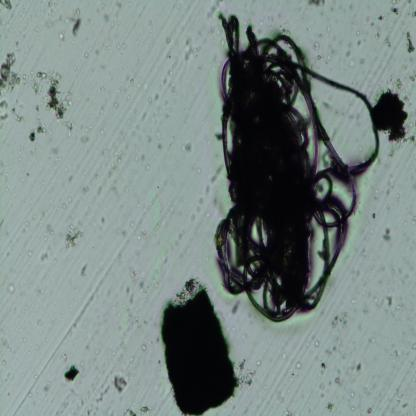Background material: (158, 284, 242, 416), (371, 85, 416, 147), (35, 69, 72, 119), (94, 147, 125, 196), (0, 49, 20, 96), (240, 361, 260, 389), (124, 309, 149, 331), (182, 36, 200, 63), (152, 195, 168, 225), (211, 191, 229, 217), (67, 223, 83, 251), (11, 98, 27, 124), (402, 28, 416, 56), (36, 116, 52, 140), (330, 310, 349, 330), (168, 232, 187, 250), (97, 386, 116, 404), (144, 273, 159, 294), (113, 375, 129, 394), (82, 294, 98, 313), (391, 300, 406, 320), (211, 164, 225, 185), (0, 96, 9, 128), (117, 240, 131, 260), (127, 109, 141, 128), (64, 366, 82, 380), (372, 22, 384, 41), (118, 404, 137, 416), (326, 344, 341, 358), (231, 295, 242, 314), (176, 142, 193, 154), (124, 284, 134, 304), (85, 404, 101, 416), (23, 72, 35, 88), (351, 361, 363, 377), (386, 177, 395, 198), (62, 13, 76, 26), (382, 224, 392, 242), (0, 0, 15, 12), (398, 270, 410, 285), (138, 404, 154, 415), (151, 104, 162, 120), (140, 108, 150, 125), (73, 17, 81, 38), (80, 186, 94, 198), (163, 99, 171, 119), (65, 121, 75, 137), (80, 260, 90, 276), (372, 295, 385, 307), (27, 128, 38, 142), (384, 293, 394, 308), (278, 24, 290, 36), (116, 227, 129, 238), (41, 251, 51, 265), (168, 81, 178, 95), (118, 130, 128, 144), (283, 408, 300, 416), (78, 133, 89, 145), (124, 75, 135, 87), (99, 0, 112, 10), (26, 148, 35, 162), (46, 221, 54, 236), (8, 282, 18, 294), (373, 187, 381, 202), (35, 284, 44, 297), (42, 378, 50, 392), (394, 76, 402, 90), (50, 145, 60, 156), (99, 41, 111, 50), (377, 12, 389, 21), (313, 40, 322, 52), (307, 0, 328, 5), (361, 307, 371, 317), (406, 8, 416, 18), (325, 402, 335, 412), (78, 396, 87, 407), (153, 92, 162, 103), (360, 246, 367, 260), (319, 360, 326, 374), (409, 70, 416, 84), (208, 25, 216, 37), (62, 352, 70, 364), (132, 125, 140, 137), (325, 20, 332, 33), (344, 1, 354, 10), (0, 19, 10, 28), (317, 381, 326, 391), (390, 7, 400, 16), (396, 391, 404, 402), (324, 98, 332, 109), (5, 341, 12, 353), (155, 129, 162, 141), (14, 40, 21, 52), (45, 19, 54, 28), (57, 33, 66, 42), (293, 360, 302, 369), (118, 84, 127, 93), (393, 349, 401, 359), (97, 214, 105, 224), (97, 85, 105, 95), (318, 392, 328, 400), (204, 184, 212, 194), (346, 113, 356, 121), (17, 144, 24, 155), (140, 278, 146, 290), (343, 49, 352, 57), (6, 371, 12, 383), (5, 172, 10, 186), (112, 100, 119, 110), (84, 125, 94, 132), (141, 230, 148, 240), (100, 106, 106, 117), (370, 212, 378, 220), (258, 19, 266, 27), (167, 68, 175, 76), (358, 56, 366, 64), (127, 221, 136, 228), (129, 270, 136, 279), (140, 156, 146, 166), (134, 154, 140, 164), (385, 37, 391, 47), (336, 377, 342, 387), (365, 338, 375, 344), (134, 233, 141, 241), (121, 41, 128, 49), (348, 60, 355, 68), (14, 155, 22, 162), (157, 142, 164, 150), (140, 82, 145, 93), (147, 96, 153, 105), (38, 220, 44, 229), (115, 1, 121, 10), (380, 263, 386, 272), (390, 269, 396, 278), (162, 75, 168, 84), (68, 173, 74, 182), (199, 194, 204, 204), (6, 136, 11, 146), (74, 8, 81, 15), (103, 15, 110, 22), (356, 146, 363, 153), (129, 356, 135, 364), (190, 213, 196, 221), (368, 228, 374, 236), (256, 359, 262, 367), (316, 53, 322, 61), (166, 142, 172, 150), (280, 350, 286, 358), (165, 38, 173, 44), (390, 0, 398, 6), (196, 166, 201, 175), (35, 104, 40, 113), (314, 337, 318, 348), (46, 1, 52, 8), (84, 52, 90, 59), (394, 192, 401, 198), (42, 210, 48, 217), (12, 350, 17, 358), (110, 303, 115, 311), (351, 392, 356, 400), (61, 201, 66, 209), (411, 215, 416, 223), (34, 26, 40, 32), (22, 338, 28, 344), (84, 97, 90, 103), (44, 233, 48, 242), (51, 10, 56, 17), (0, 221, 5, 228), (26, 349, 31, 356), (147, 164, 152, 171), (355, 271, 360, 278), (412, 342, 416, 350), (164, 256, 168, 264), (142, 344, 146, 352), (40, 178, 44, 186), (368, 406, 372, 414), (356, 28, 360, 36), (2, 360, 7, 366), (68, 197, 73, 203), (100, 64, 106, 69), (28, 251, 34, 256), (92, 357, 97, 363), (35, 343, 39, 350), (25, 220, 29, 227), (127, 2, 132, 7), (57, 158, 62, 163), (86, 115, 91, 120), (403, 403, 408, 408), (45, 337, 50, 342), (21, 372, 26, 377), (0, 348, 4, 354), (148, 137, 152, 143), (116, 44, 120, 50), (358, 39, 361, 47), (34, 374, 38, 380), (38, 320, 42, 326), (196, 208, 202, 212), (352, 299, 356, 305), (70, 38, 74, 44), (20, 8, 26, 12), (88, 18, 92, 24), (206, 213, 210, 219), (126, 186, 129, 193), (22, 228, 26, 233), (6, 251, 10, 256), (22, 178, 27, 182), (90, 46, 94, 51), (100, 129, 104, 134), (122, 65, 126, 70), (32, 214, 36, 219), (149, 22, 152, 28), (97, 8, 100, 14), (96, 50, 99, 56), (30, 198, 33, 204), (29, 392, 32, 398), (7, 392, 11, 396), (92, 33, 96, 37), (352, 407, 356, 411), (119, 326, 123, 330), (407, 0, 411, 4), (113, 351, 116, 356), (20, 327, 23, 332), (78, 125, 81, 130), (36, 389, 39, 394), (96, 349, 99, 354), (127, 96, 130, 100), (54, 320, 57, 324), (66, 166, 68, 172), (405, 221, 407, 227), (111, 23, 114, 27), (74, 67, 77, 71), (96, 366, 99, 370), (45, 191, 48, 194), (31, 368, 34, 371), (413, 389, 415, 392), (10, 166, 12, 169), (28, 173, 30, 176), (6, 189, 8, 192)
Microfibre: (217, 11, 377, 324)
